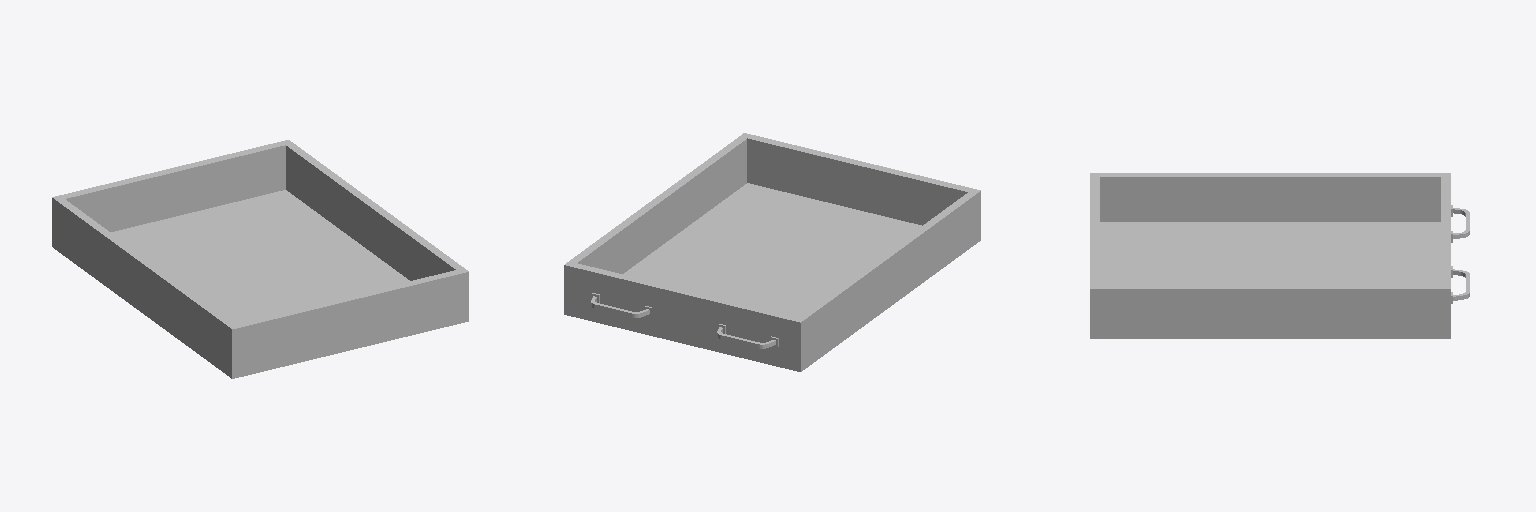
The model's file is SM_DeskDrawerLarge_001.obj.
3 views of the same model, side by side, from view 1: azimuth 30°, elevation 25°; view 2: azimuth 150°, elevation 25°; view 3: azimuth 270°, elevation 25° (orthographic).
Visible parts, largest first — view 1: polySurface12; view 2: polySurface12; view 3: polySurface12.
Boxes of the visible parts, x1=… form: polySurface12: x1=52, y1=140, x2=468, y2=378; polySurface12: x1=564, y1=133, x2=980, y2=371; polySurface12: x1=1090, y1=173, x2=1469, y2=338.
Size of the model in its own units: 51.4 by 10.31 by 71.34.